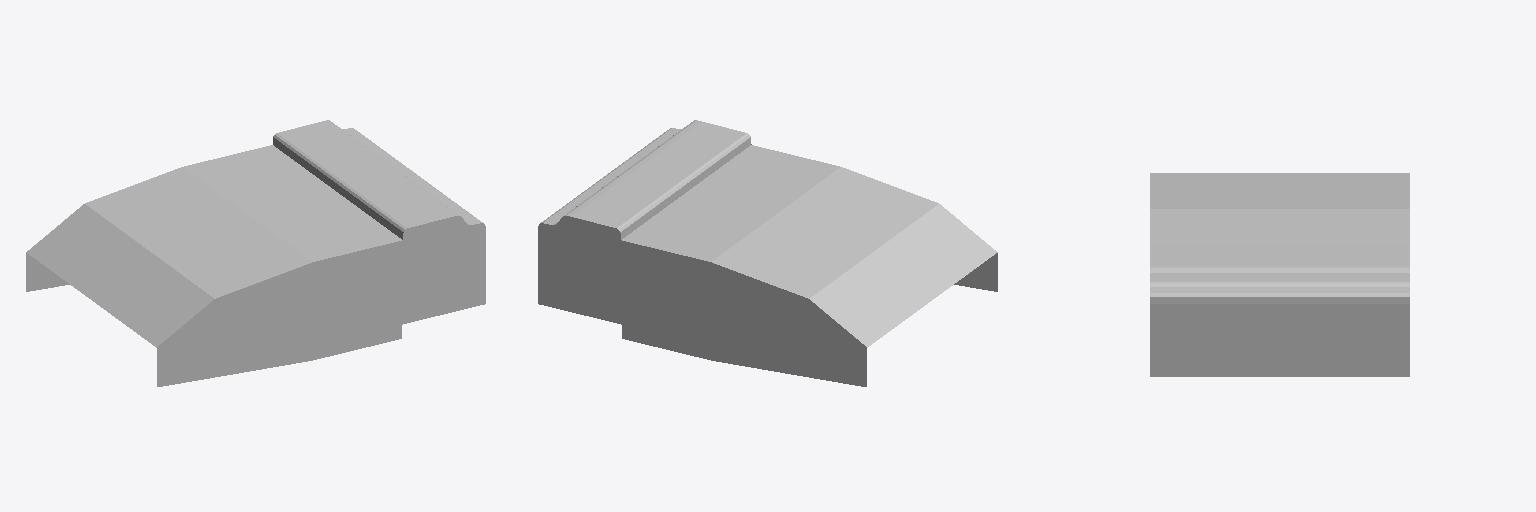
File: Curbgrass.obj
The picture shows the model from 3 angles: view 1: azimuth 30°, elevation 25°; view 2: azimuth 150°, elevation 25°; view 3: azimuth 270°, elevation 25°; orthographic projection.
Visible parts, largest first — view 1: concrete_barrier_simple; view 2: concrete_barrier_simple; view 3: concrete_barrier_simple.
Boxes of the visible parts, x1=… form: concrete_barrier_simple: x1=26, y1=120, x2=485, y2=386; concrete_barrier_simple: x1=538, y1=120, x2=997, y2=386; concrete_barrier_simple: x1=1150, y1=173, x2=1409, y2=376.
Size of the model in its own units: 125 by 39.94 by 86.04.